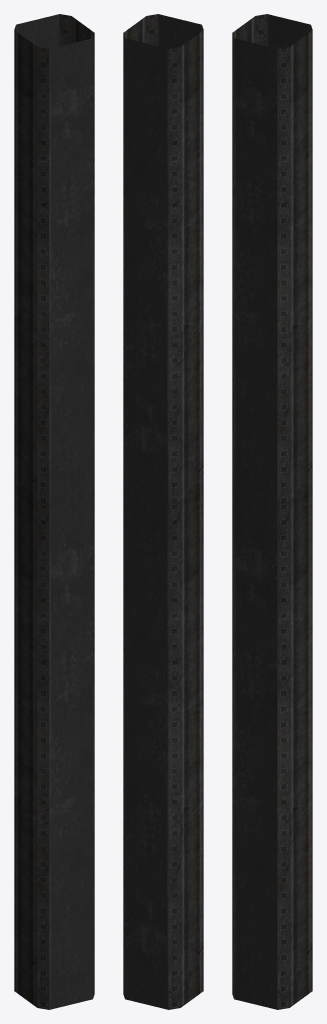
The model's file is lab_flat_glass_welder.dae.
3 views of the same model, side by side, from view 1: azimuth 30°, elevation 25°; view 2: azimuth 150°, elevation 25°; view 3: azimuth 330°, elevation 25° (orthographic).
Visible parts, largest first — view 1: polySurface24; view 2: polySurface24; view 3: polySurface24.
Part boxes in pixels (x1,y1,x2,y2): polySurface24: [14, 14, 94, 1009]; polySurface24: [123, 14, 203, 1009]; polySurface24: [232, 14, 312, 1009].
Size of the model in its own units: 0.25 by 4 by 0.25.
